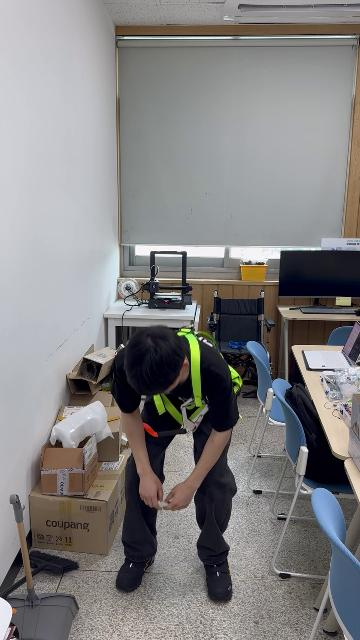helmet_not_worn: (119, 324, 187, 394)
shoe_worn: (115, 555, 156, 592), (204, 560, 233, 601)
vest_worn: (144, 330, 240, 436)
